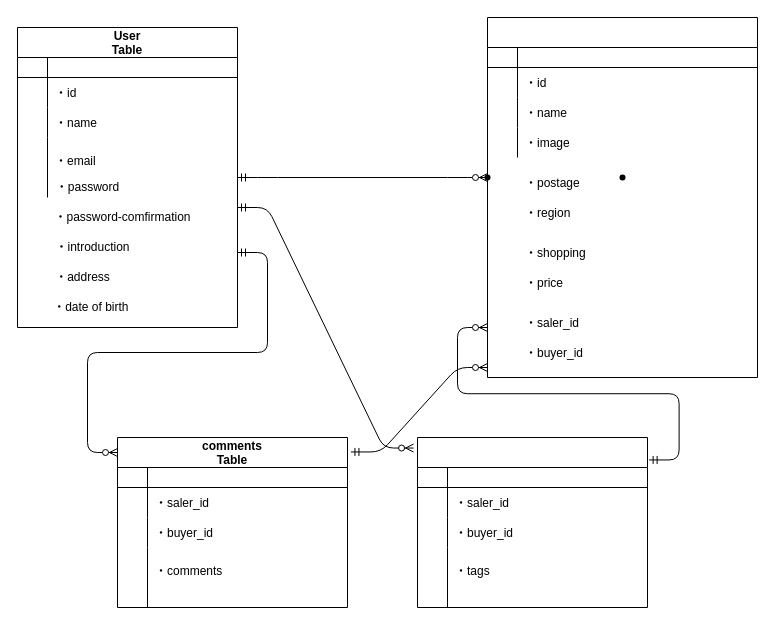
This 775x625 diagram has some shape labels left out. The box of each missing label's shape, as (x1, y1, x2, y2) in pixels:
Items Table: (486, 16, 758, 378)
tags Table: (416, 436, 648, 608)
